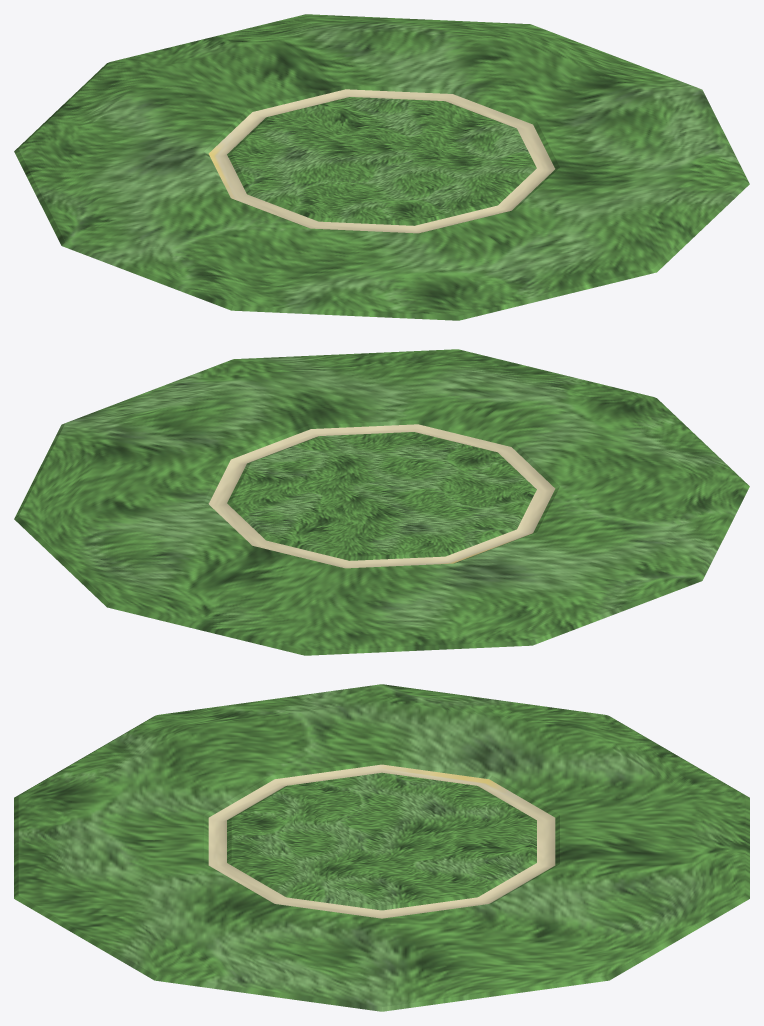
Rendered from Circular_Carpet_10.FBX.
The picture shows the model from 3 angles, top to bottom: view 1: azimuth 30°, elevation 25°; view 2: azimuth 150°, elevation 25°; view 3: azimuth 270°, elevation 25°; orthographic projection. The views are drawn at different scales.
Visible parts, largest first — view 1: Circular_Carpet; view 2: Circular_Carpet; view 3: Circular_Carpet.
Part boxes in pixels (x1,y1,x2,y2): Circular_Carpet: (14,14,749,320); Circular_Carpet: (14,349,749,655); Circular_Carpet: (14,684,749,1011).
Bounding box in the file's own units: 316 × 4.05 × 300.
